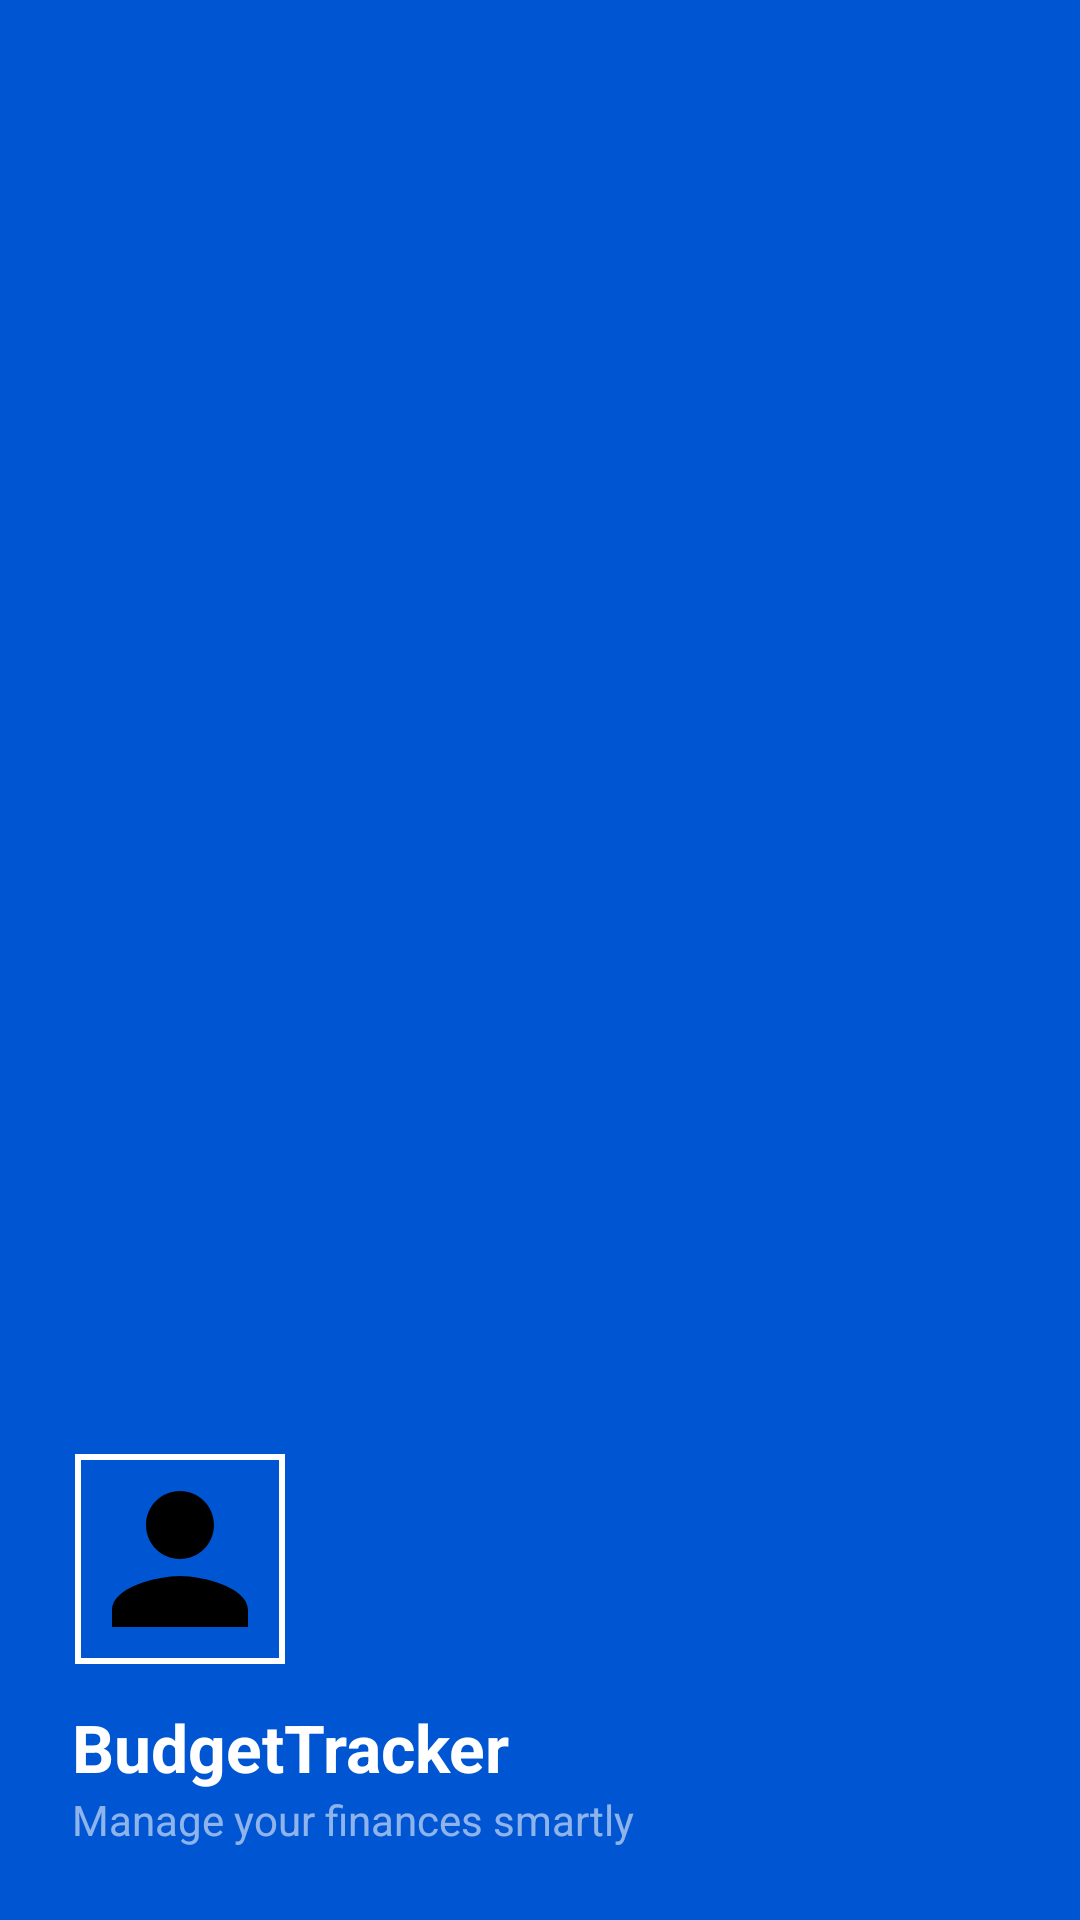

Icons on this 1080x1920 Android screen, each with its box as (x1, y1, x2, y2):
Profile: (75, 1454, 285, 1664)
